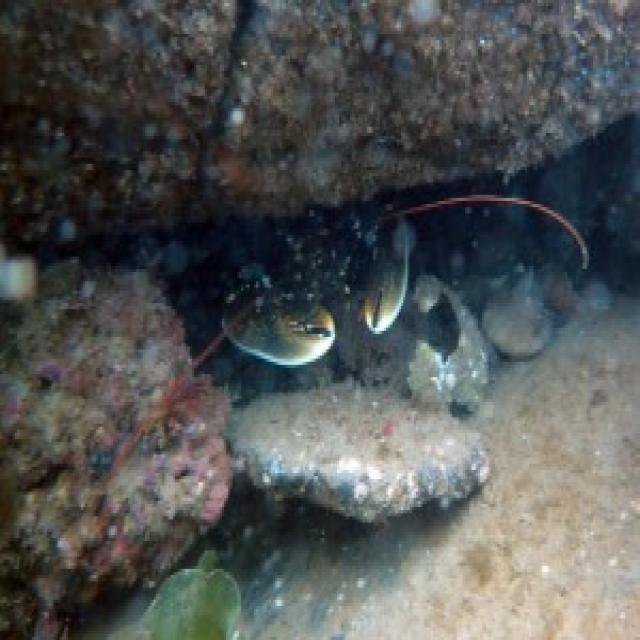lobsters: (157, 210, 525, 456)
